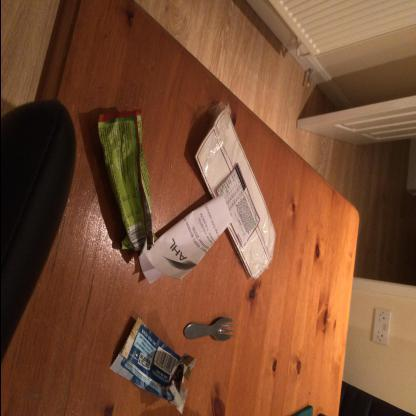kagit: (139, 195, 233, 287)
plastik: (193, 103, 277, 283), (95, 110, 155, 264), (108, 318, 198, 416)
